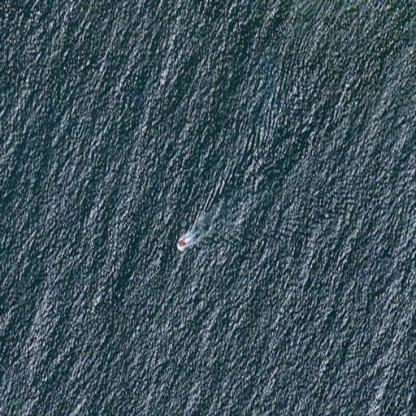ship: (9, 235, 22, 250)
